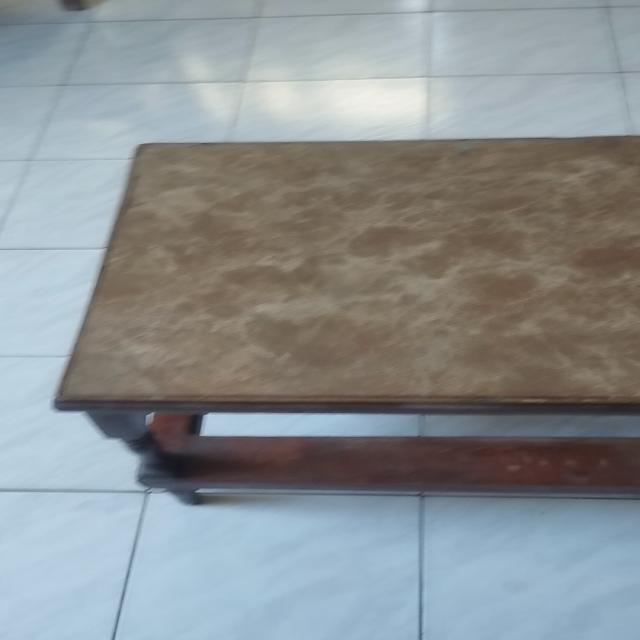table: (40, 136, 640, 506)
